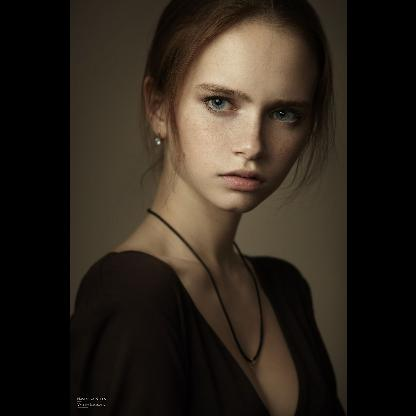Female: (145, 14, 320, 210)
